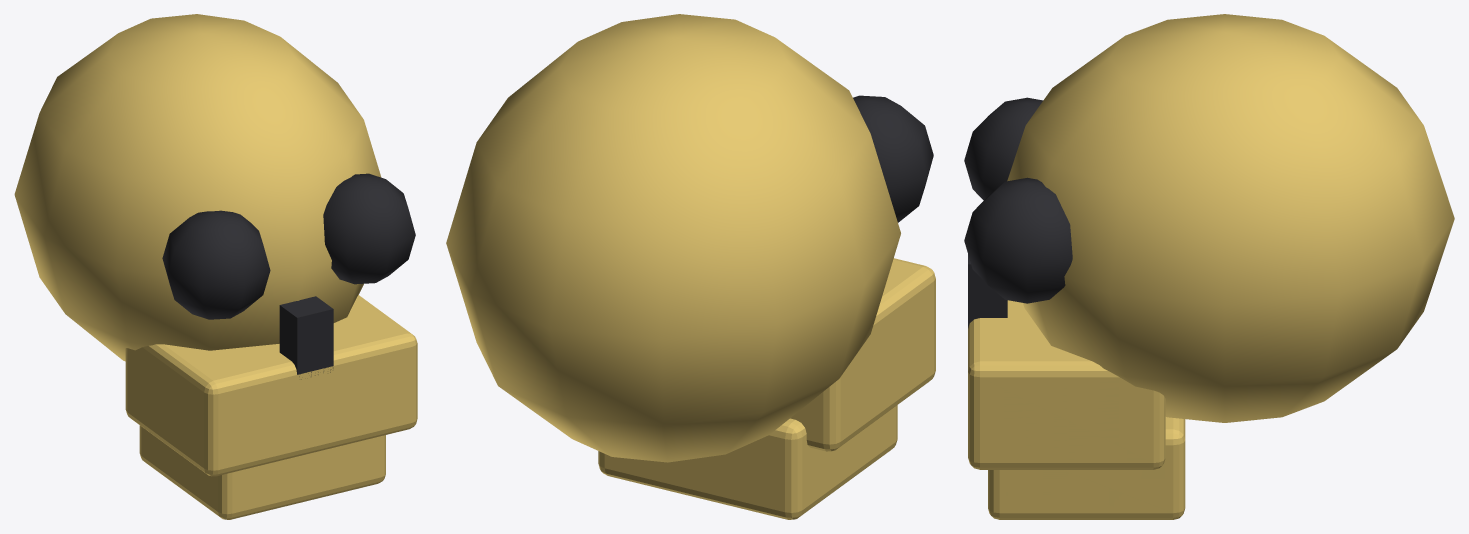
File: skull_gilded.glb
3 renders of one model, left to right at view 1: azimuth 30°, elevation 25°; view 2: azimuth 150°, elevation 25°; view 3: azimuth 270°, elevation 25°, orthographic. The views are drawn at different scales.
Parts seen in each view (by area): view 1: GD_skull_gilded__m0, GD_skull_gilded__m1; view 2: GD_skull_gilded__m0, GD_skull_gilded__m1; view 3: GD_skull_gilded__m0, GD_skull_gilded__m1.
Boxes of the visible parts, x1,y1,x2,y2 form: GD_skull_gilded__m0: [14, 14, 417, 519]; GD_skull_gilded__m1: [162, 173, 415, 379]; GD_skull_gilded__m0: [446, 14, 935, 519]; GD_skull_gilded__m1: [853, 95, 933, 222]; GD_skull_gilded__m0: [968, 14, 1454, 519]; GD_skull_gilded__m1: [964, 97, 1072, 328].
Bounding box in the file's own units: 0.1248 × 0.1494 × 0.1491.
